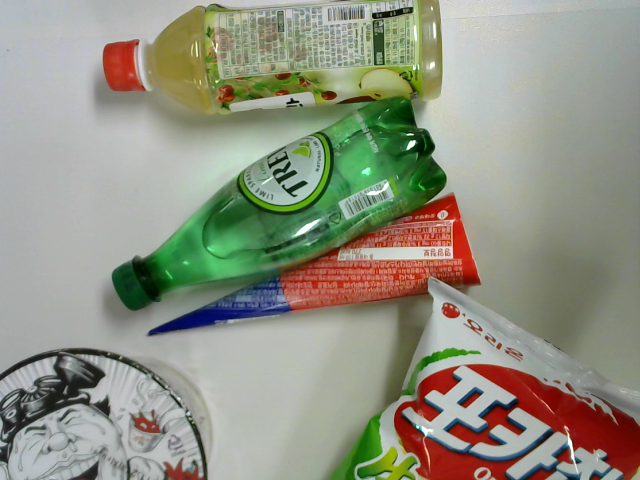HeJangsock: (1, 339, 223, 480)
Morning_Apple_500ml: (96, 1, 460, 117)
Pocachip_Onion: (325, 272, 640, 479)
Treviraim_500ml: (105, 94, 454, 318)
World_Cone_Banila: (143, 191, 488, 344)
